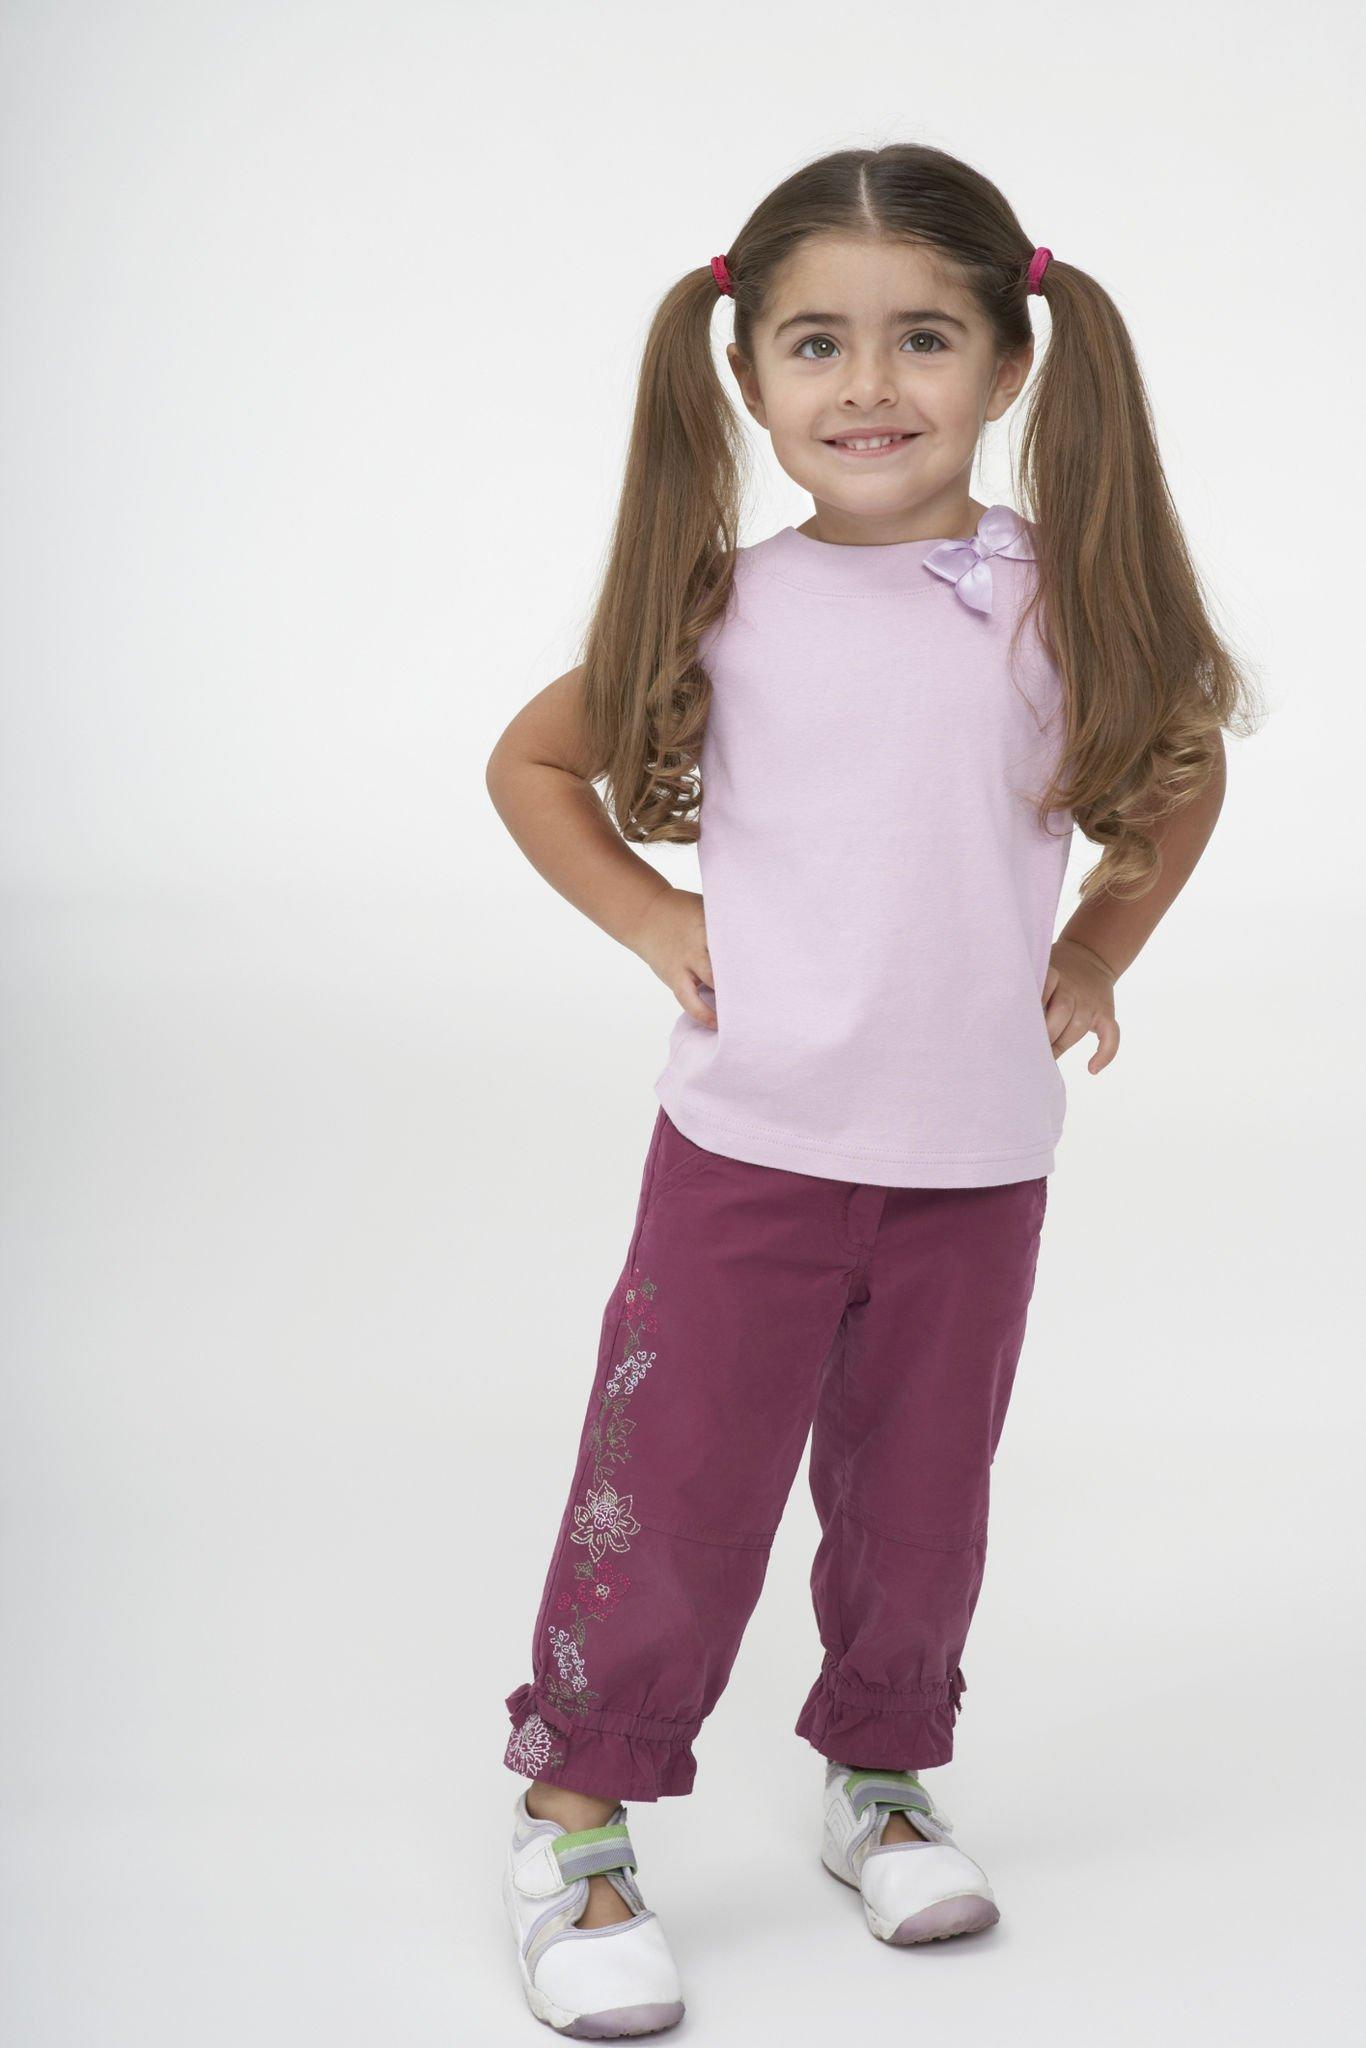Healthy: (712, 218, 1032, 539)
